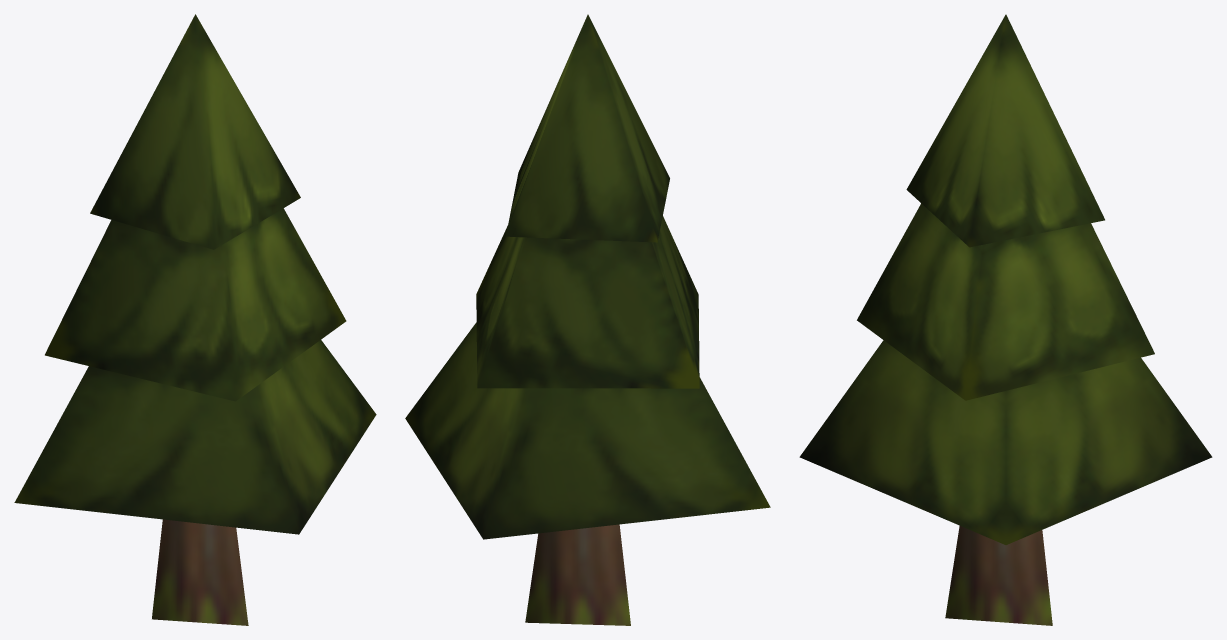
Rendered from tree_02.FBX.
3 views of the same model, side by side, from view 1: azimuth 30°, elevation 25°; view 2: azimuth 150°, elevation 25°; view 3: azimuth 270°, elevation 25° (orthographic).
Parts seen in each view (by area): view 1: tree_02; view 2: tree_02; view 3: tree_02.
Boxes of the visible parts, x1,y1,x2,y2 form: tree_02: [14, 14, 376, 625]; tree_02: [405, 14, 770, 625]; tree_02: [799, 14, 1212, 625].
Bounding box in the file's own units: 302 × 299 × 474.
Materials: 1 (1 with a texture image).
